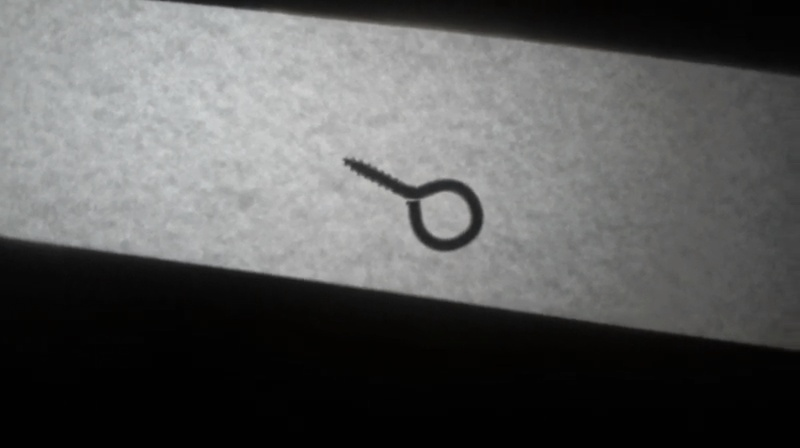O001: (339, 154, 489, 258)
